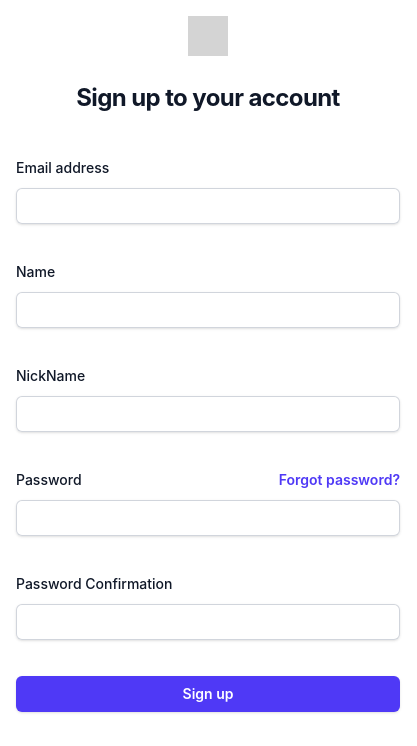
Test case: 회원가입 테스트 › 비밀번호 형식을 확인한다 › 비밀번호가 대문자, 소문자, 숫자, 특수문자를 포함하지 않으면 에러메세지가 표시된다
// 비밀번호가 대문자, 소문자, 숫자, 특수문자를 포함하지 않음
Step 1. Type "password" into the password field labelled "Password" → x=208, y=518, box [16,500,400,536]
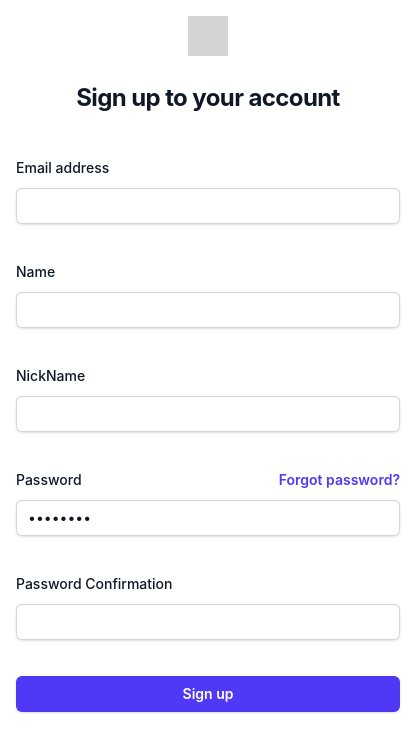
Step 2. Submit the form from the button with test id "submit-button", box [16,676,400,712]
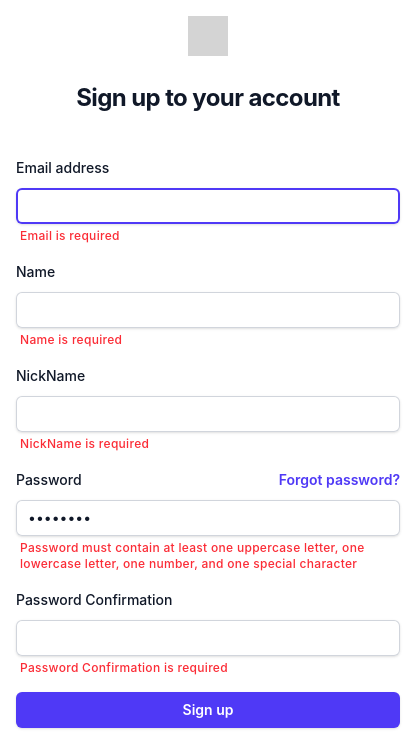
Check: the text "Password must contain at least one uppercase letter, one lowercase letter, one number, and one special character" is shown, box [20,540,364,571]
